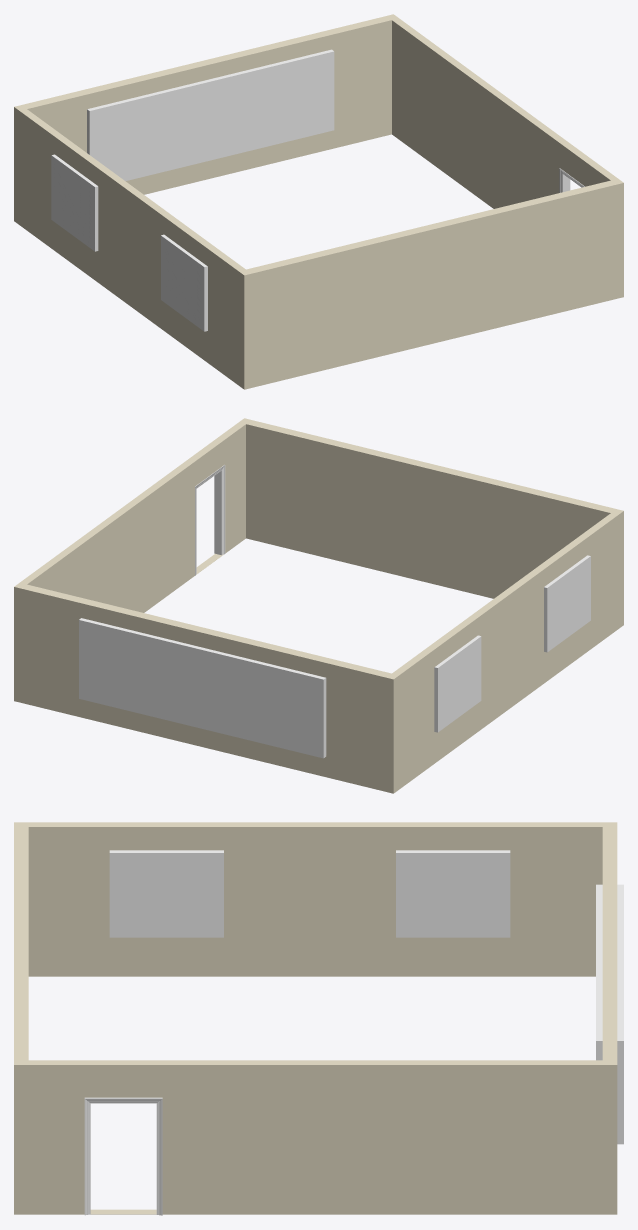
File: classroom_wall.glb
3 views of the same model, one above another, from view 1: azimuth 30°, elevation 25°; view 2: azimuth 150°, elevation 25°; view 3: azimuth 270°, elevation 25° (orthographic). The views are drawn at different scales.
Visible parts, largest first — view 1: Plane.001, CTRL_Hole.002, Plane.002, Plane.003, CTRL_Hole, CTRL_Hole.001; view 2: Plane.001, CTRL_Hole.002, Plane.002, Plane.003, CTRL_Hole, CTRL_Hole.001; view 3: Plane.001, Plane.003, Plane.002, CTRL_Hole, CTRL_Hole.001, CTRL_Hole.002.
Boxes of the visible parts, left/top/right/bottom form: Plane.001: left=14, top=14, right=623, bottom=389; CTRL_Hole.002: left=87, top=49, right=334, bottom=181; Plane.002: left=19, top=109, right=136, bottom=304; Plane.003: left=129, top=189, right=245, bottom=385; CTRL_Hole: left=51, top=154, right=98, bottom=251; CTRL_Hole.001: left=161, top=234, right=207, bottom=331; Plane.001: left=14, top=418, right=623, bottom=793; CTRL_Hole.002: left=79, top=618, right=326, bottom=758; Plane.002: left=392, top=593, right=508, bottom=789; Plane.003: left=501, top=513, right=618, bottom=708; CTRL_Hole: left=434, top=635, right=481, bottom=732; CTRL_Hole.001: left=544, top=555, right=590, bottom=652; Plane.001: left=14, top=822, right=617, bottom=1215; Plane.003: left=28, top=822, right=315, bottom=976; Plane.002: left=315, top=822, right=602, bottom=976; CTRL_Hole: left=396, top=850, right=510, bottom=937; CTRL_Hole.001: left=109, top=850, right=223, bottom=937; CTRL_Hole.002: left=596, top=884, right=623, bottom=1144.
Bounding box in the file's own units: 3647 × 1035 × 3822.
